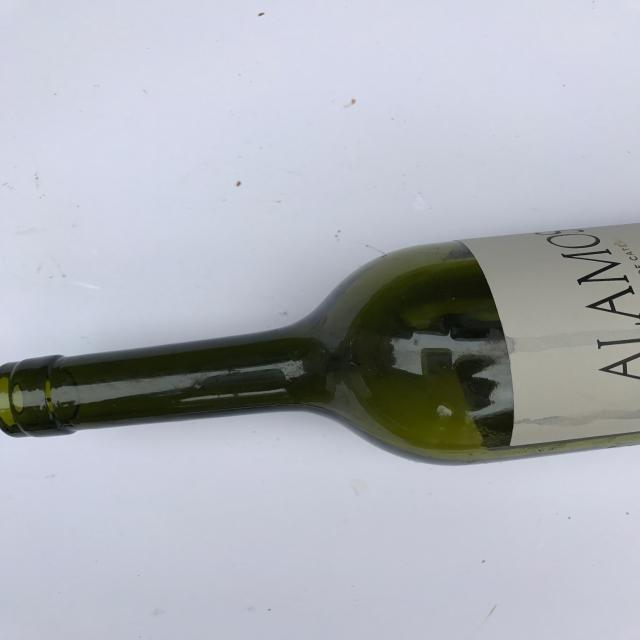glass: (1, 222, 640, 467)
